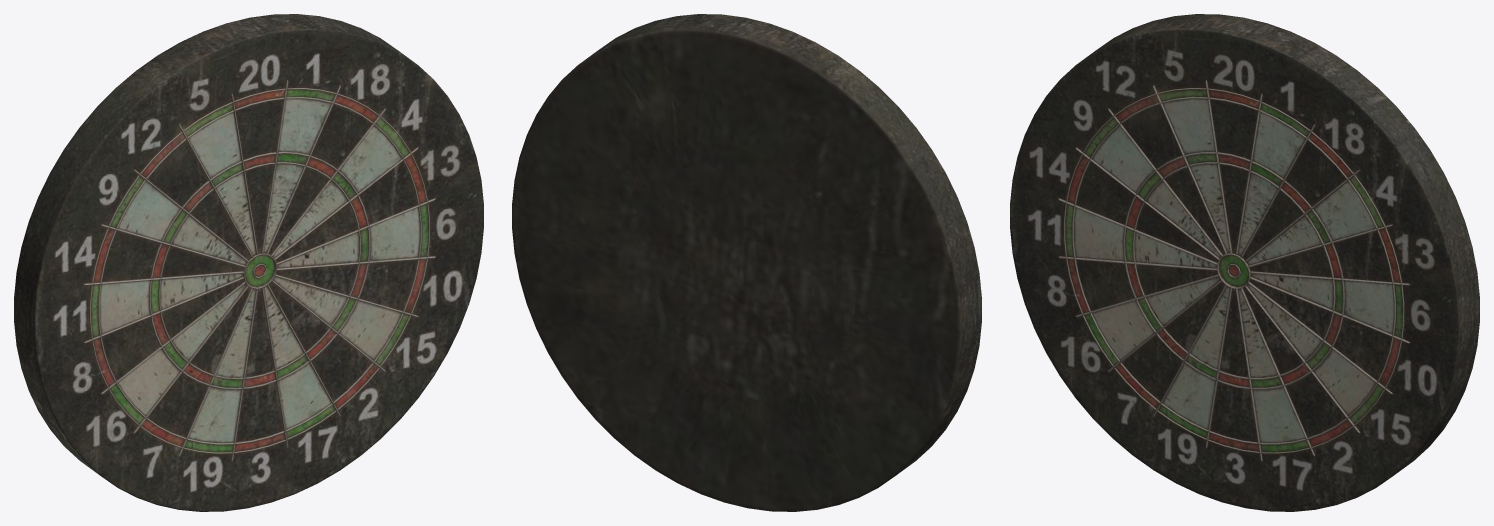
Rendered from dartboard.glb.
The picture shows the model from 3 angles, left to right: view 1: azimuth 30°, elevation 25°; view 2: azimuth 150°, elevation 25°; view 3: azimuth 330°, elevation 25°; orthographic projection.
Visible parts, largest first — view 1: dartboard; view 2: dartboard; view 3: dartboard.
Boxes of the visible parts, box(x1,y1,x2,y2) form: dartboard: box(14, 14, 483, 511); dartboard: box(512, 14, 981, 511); dartboard: box(1010, 14, 1479, 511).
Bounding box in the file's own units: 0.4507 × 0.4507 × 0.0394.
1 material, 1 textured.
